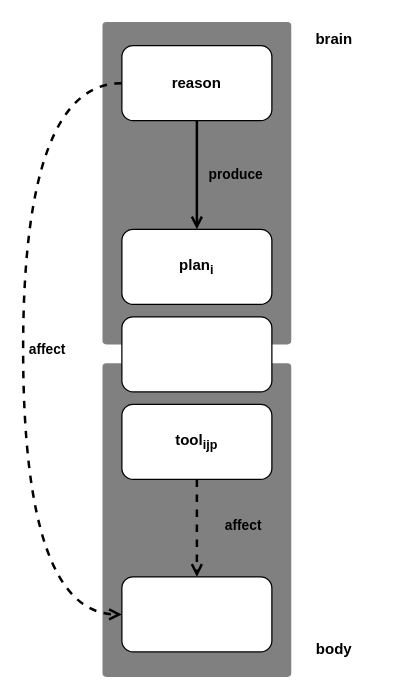
This 398x698 diagram has some shape labels left out. Each missing label, with the box of its shape:
action ij: (121, 316, 272, 392)
environment: (121, 576, 272, 652)
